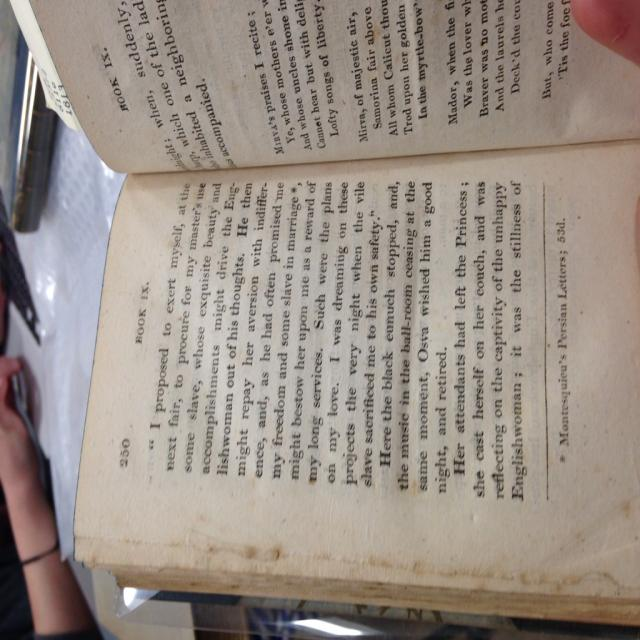Book: (21, 0, 640, 637)
